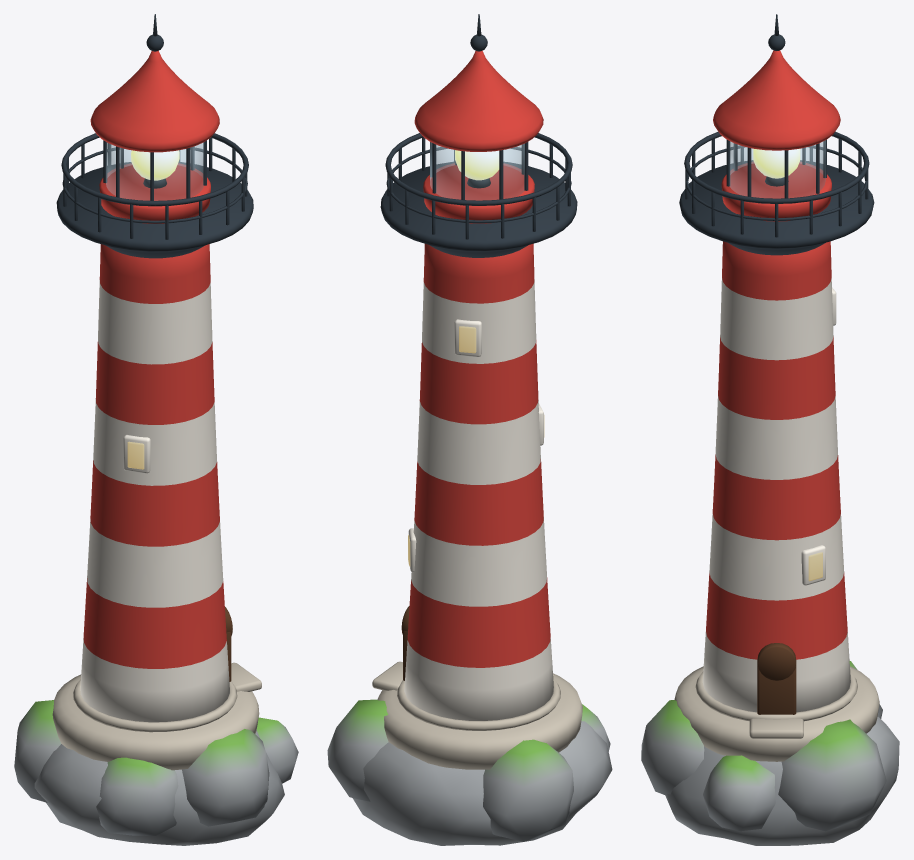
Rendered from lighthouse.glb.
3 views of the same model, side by side, from view 1: azimuth 30°, elevation 25°; view 2: azimuth 150°, elevation 25°; view 3: azimuth 270°, elevation 25° (orthographic).
Visible parts, largest first — view 1: Lighthouse; view 2: Lighthouse; view 3: Lighthouse.
Part boxes in pixels (left/top/right/bottom): Lighthouse: left=14, top=14, right=298, bottom=845; Lighthouse: left=327, top=14, right=612, bottom=845; Lighthouse: left=641, top=14, right=899, bottom=845.
Bounding box in the file's own units: 4.91 × 16.18 × 4.76.
